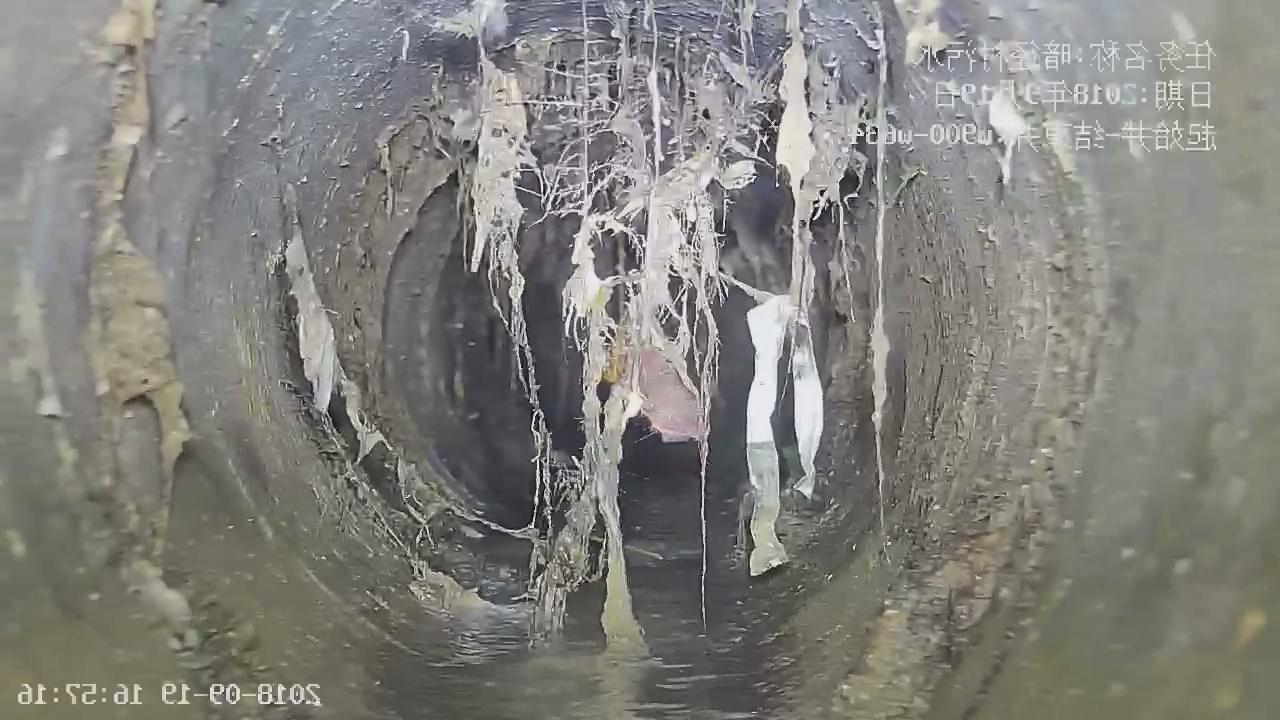SG: (435, 0, 915, 640)
